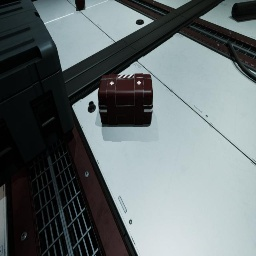FirstAidBox ,: (98, 73, 153, 126)
NitrogenTank ,: (75, 0, 84, 10)
